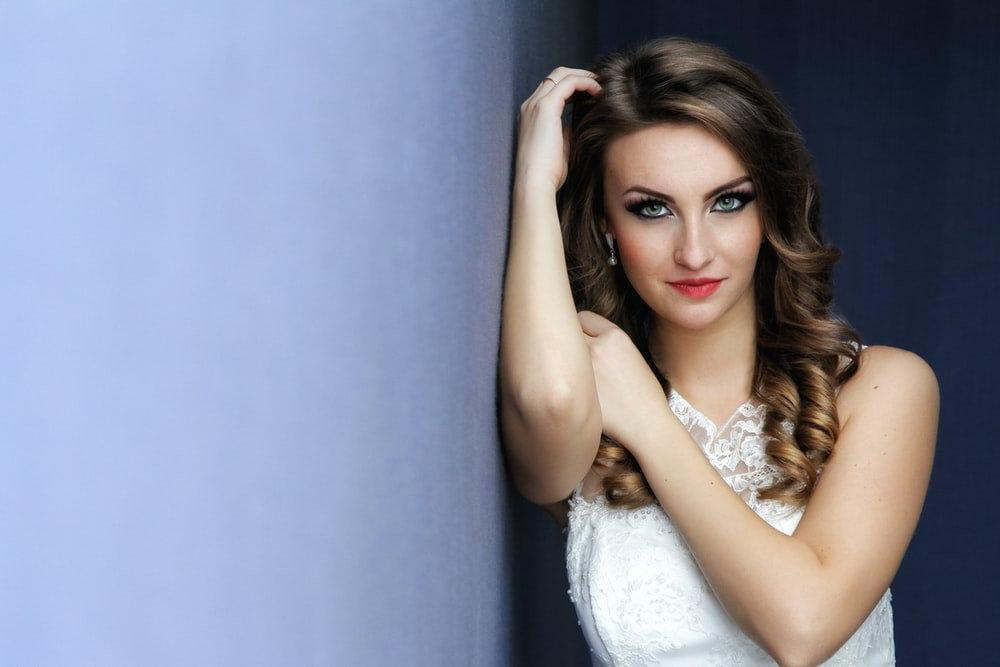Sober: (608, 133, 755, 321)
